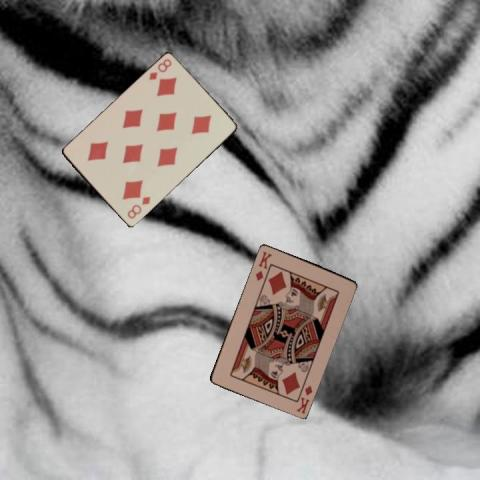8d: (125, 194, 152, 221), (146, 56, 173, 81)
Kd: (252, 248, 273, 282), (293, 382, 314, 415)
